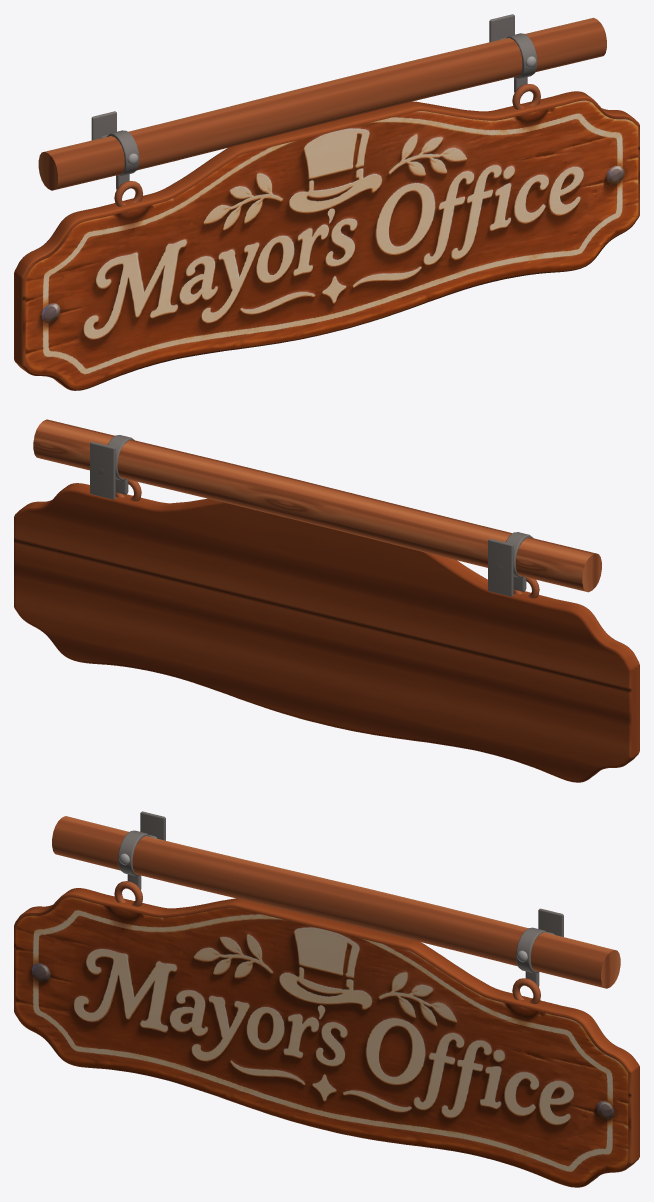
The model's file is sign_mayors_office.glb.
3 renders of one model, top to bottom at view 1: azimuth 30°, elevation 25°; view 2: azimuth 150°, elevation 25°; view 3: azimuth 330°, elevation 25°, orthographic.
Visible parts, largest first — view 1: model; view 2: model; view 3: model.
Boxes of the visible parts, x1,y1,x2,y2 form: model: (14,14,639,390); model: (14,419,639,782); model: (14,811,639,1187).
Bounding box in the file's own units: 1.99 × 0.7569 × 0.1751.
6 materials, 3 textured.
